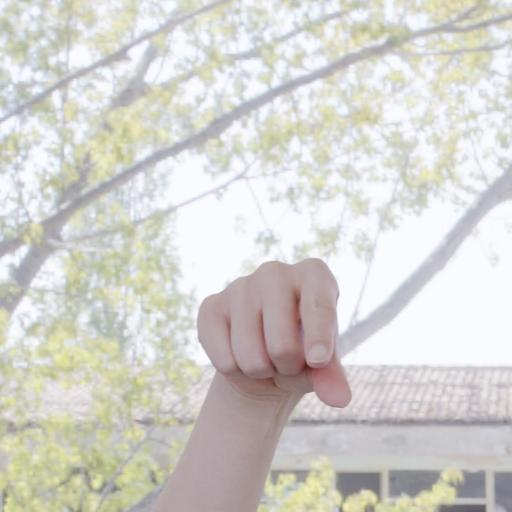Q: (189, 239, 372, 419)
